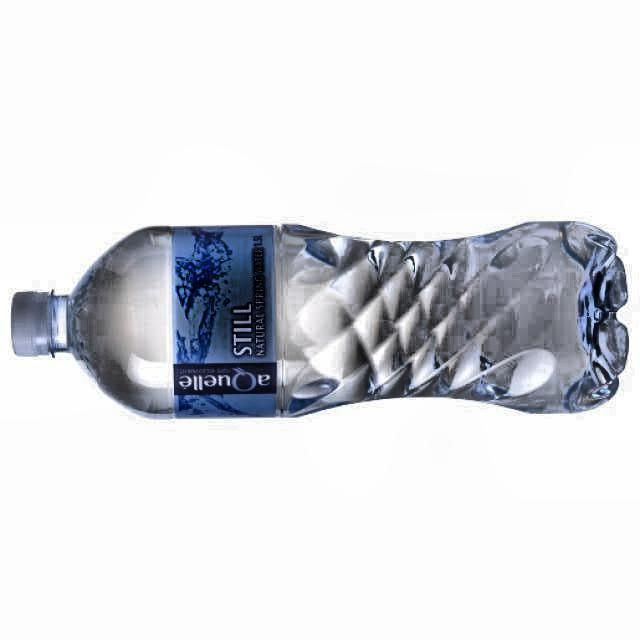plastic: (11, 222, 629, 416)
